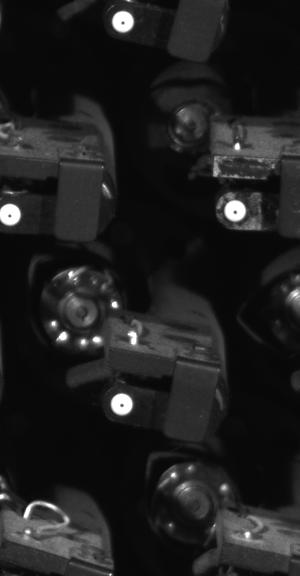fiber: (107, 385, 141, 421), (218, 196, 251, 233), (1, 192, 29, 233), (105, 6, 141, 37)
